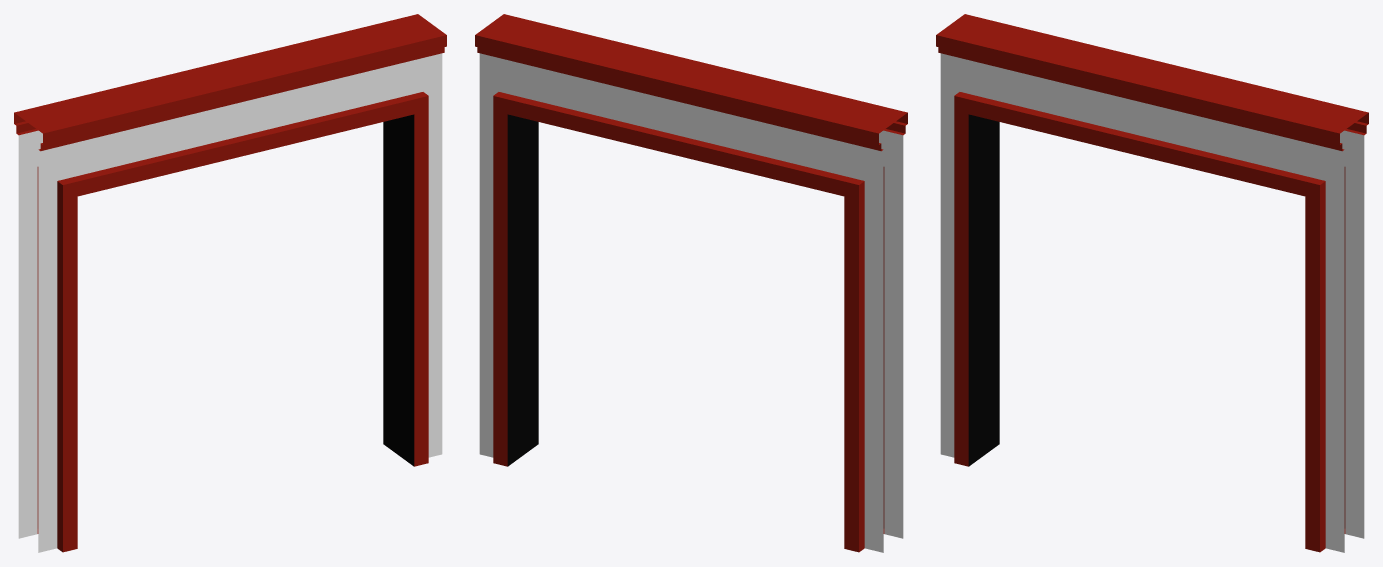
The model's file is SM_Wall_Door_3x3_01.fbx.
The picture shows the model from 3 angles, left to right: view 1: azimuth 30°, elevation 25°; view 2: azimuth 150°, elevation 25°; view 3: azimuth 330°, elevation 25°; orthographic projection.
Visible parts, largest first — view 1: SM_Wall_Door_3x3_01; view 2: SM_Wall_Door_3x3_01; view 3: SM_Wall_Door_3x3_01.
Boxes of the visible parts, x1,y1,x2,y2 form: SM_Wall_Door_3x3_01: (14,14,446,552); SM_Wall_Door_3x3_01: (475,14,907,552); SM_Wall_Door_3x3_01: (936,14,1368,552).
Size of the model in its own units: 118 by 118 by 15.53.
